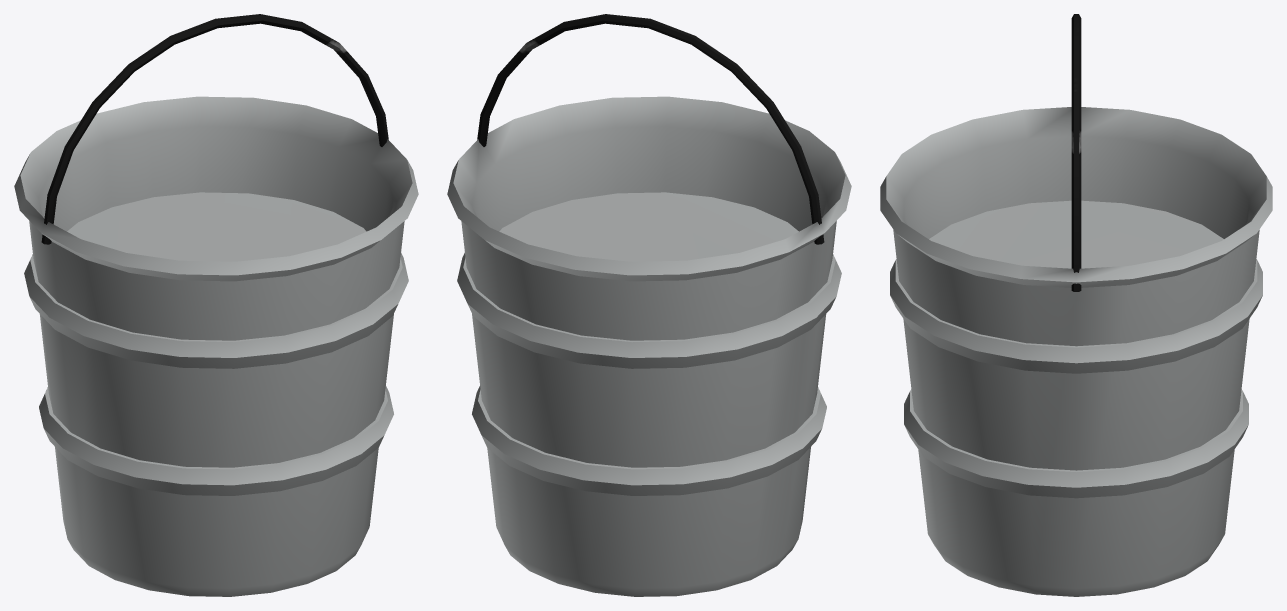
File: bucket.glb
3 renders of one model, left to right at view 1: azimuth 30°, elevation 25°; view 2: azimuth 150°, elevation 25°; view 3: azimuth 270°, elevation 25°, orthographic. The views are drawn at different scales.
Parts seen in each view (by area): view 1: boat_galv, boat_iron; view 2: boat_galv, boat_iron; view 3: boat_galv, boat_iron.
Boxes of the visible parts, x1,y1,x2,y2 form: boat_galv: (14,96,418,596); boat_iron: (41,14,388,244); boat_galv: (447,96,851,596); boat_iron: (477,14,824,244); boat_galv: (880,107,1272,596); boat_iron: (1071,14,1081,291).
Size of the model in its own units: 0.33 by 0.4635 by 0.3266.
3 materials, 2 textured.
